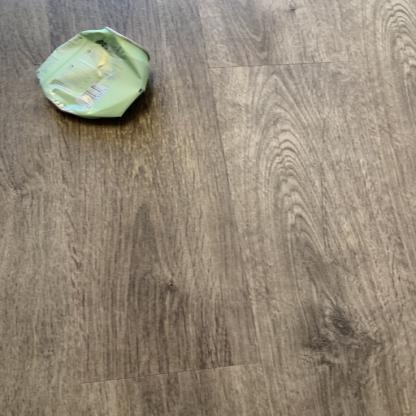trash: (37, 27, 149, 117)
